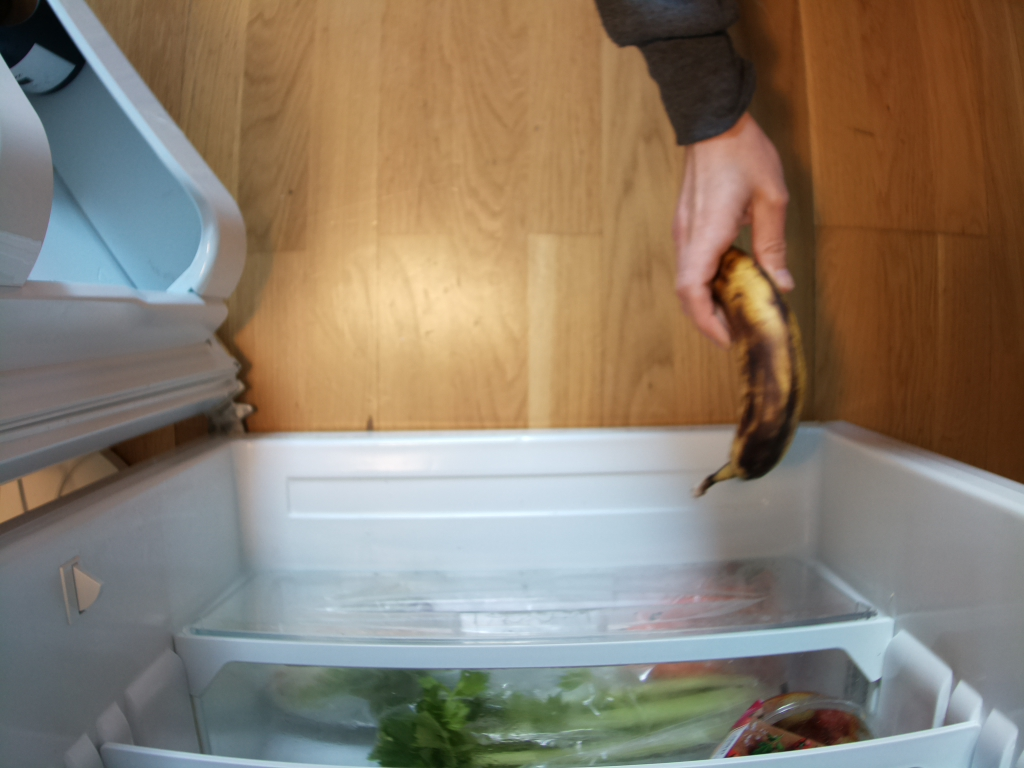banana-overripe: (698, 245, 808, 505)
